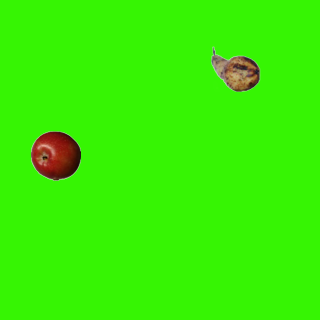Apple Braeburn: (30, 130, 80, 180)
Pear Abate: (210, 44, 260, 94)
